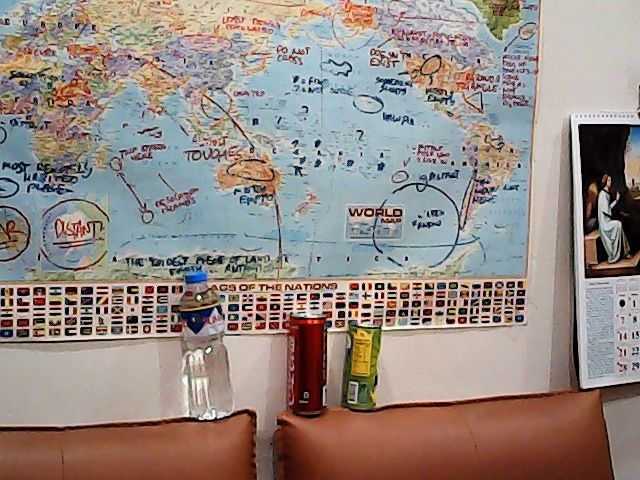Cola: (284, 308, 333, 423)
Pine Juice: (340, 308, 384, 417)
Summit Water: (176, 273, 233, 418)
